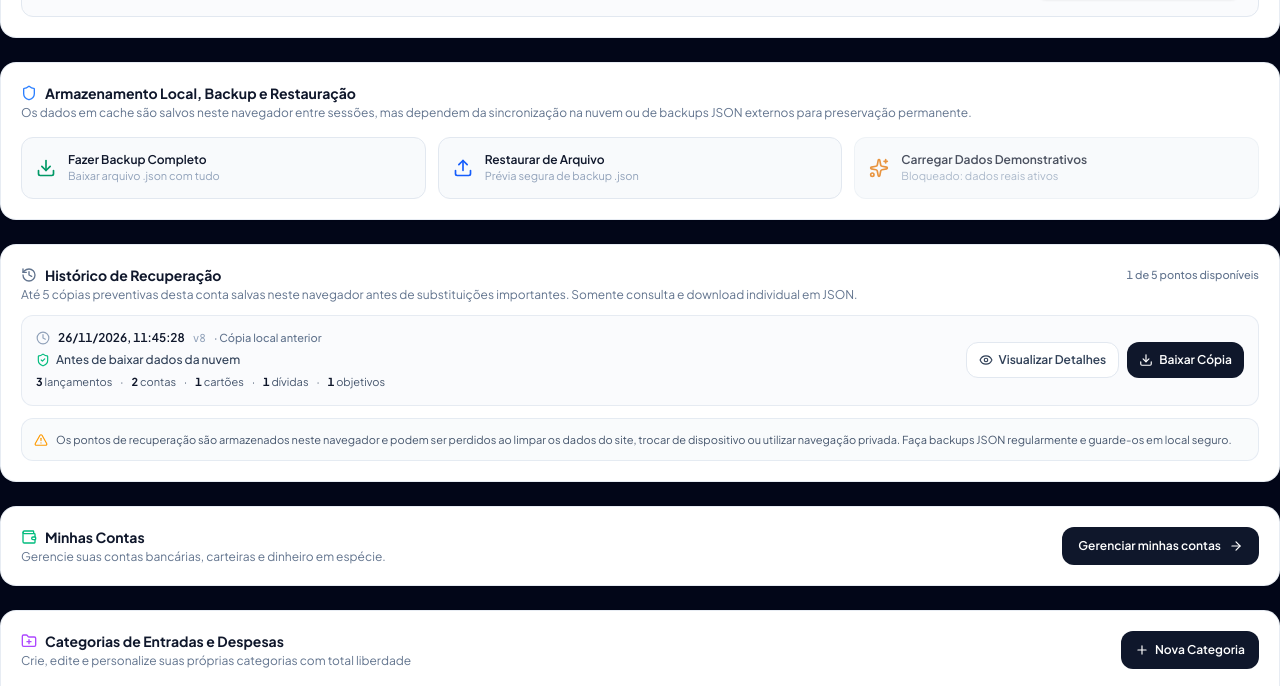
Scenario: Teste de Componente UI (Isolado): SettingsView — Ponto de Recuperação Local › 3, 4 e 5. Botão "Baixar Cópia" exporta JSON válido preservando snapshot original sem alterar estado nem gravar no Supabase
(page scrolled)
Click the button "Baixar Cópia" at (1186, 360), box [1127,342,1244,378]
(page scrolled)
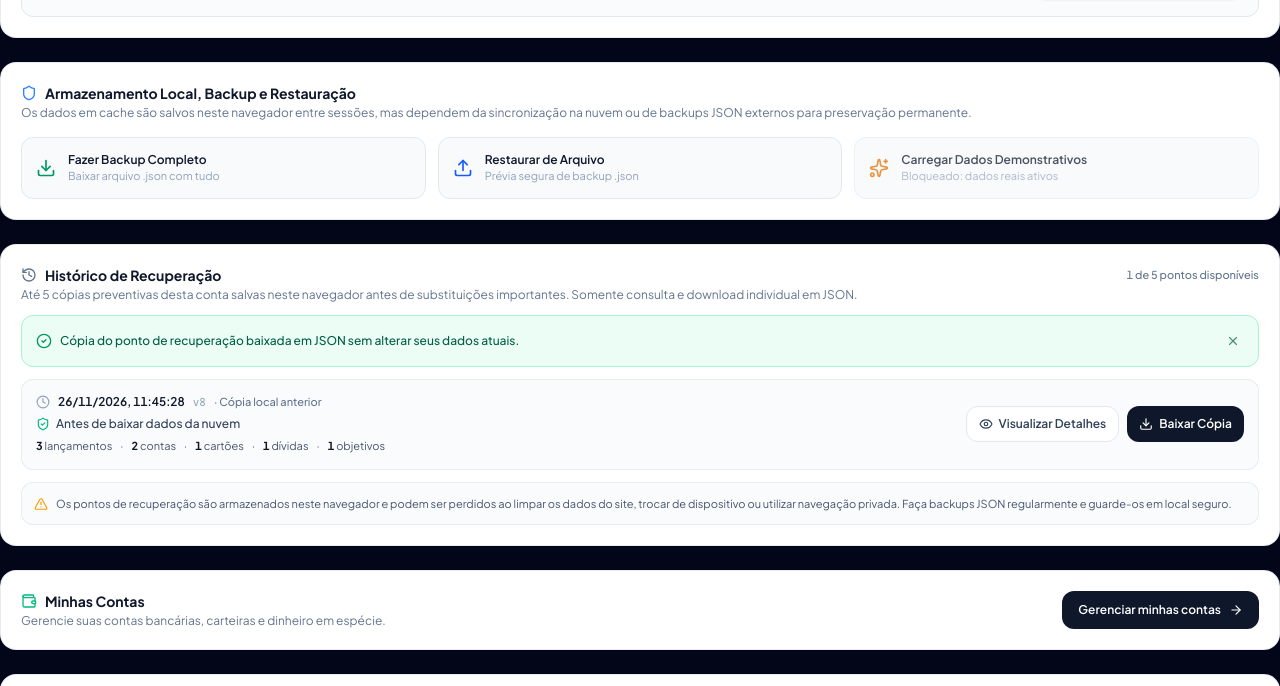
Result: the text "Cópia do ponto de recuperação baixada em JSON sem alterar seus dados atuais." is shown at [60,333,519,349]
